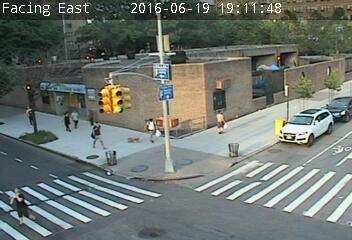neg: (105, 44, 138, 88), (163, 57, 192, 96), (289, 164, 315, 199), (231, 66, 255, 98), (195, 66, 216, 95), (274, 68, 293, 94), (39, 54, 58, 79), (80, 54, 98, 77), (264, 119, 281, 141)
pos: (1, 185, 33, 228), (87, 120, 108, 149), (141, 116, 162, 144), (211, 108, 231, 135), (54, 110, 72, 134), (68, 107, 86, 131), (20, 104, 36, 126)
